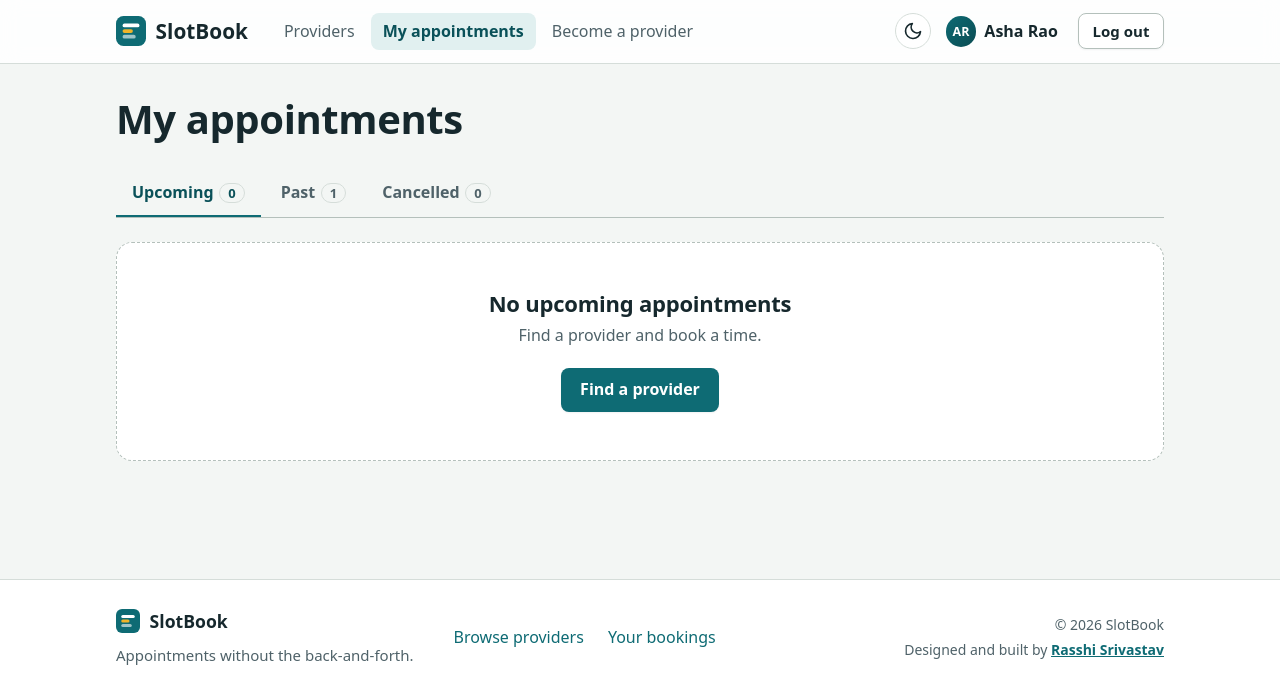
Test case: reviewing a finished appointment › asks for a star rating before sending, then saves rating and comment
Click the tab "Past1" at (313, 194), box [265, 170, 362, 218]
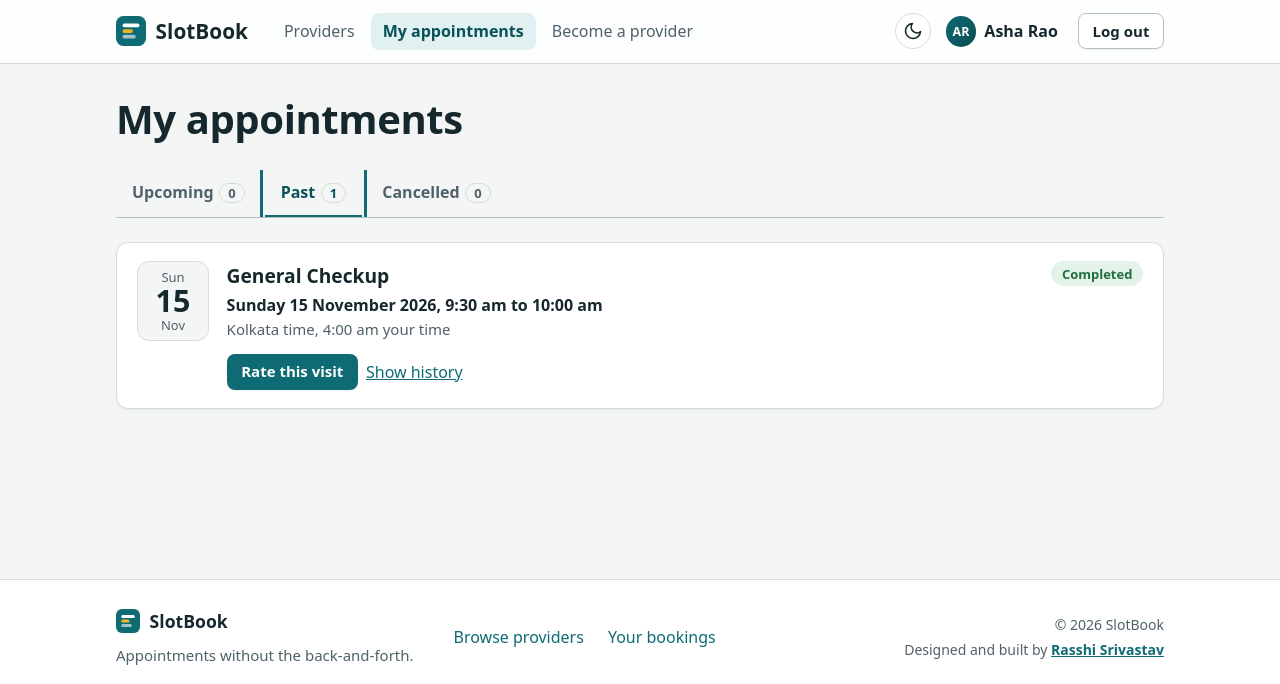
Click the button "Rate this visit" at (292, 372), box [227, 354, 358, 390]
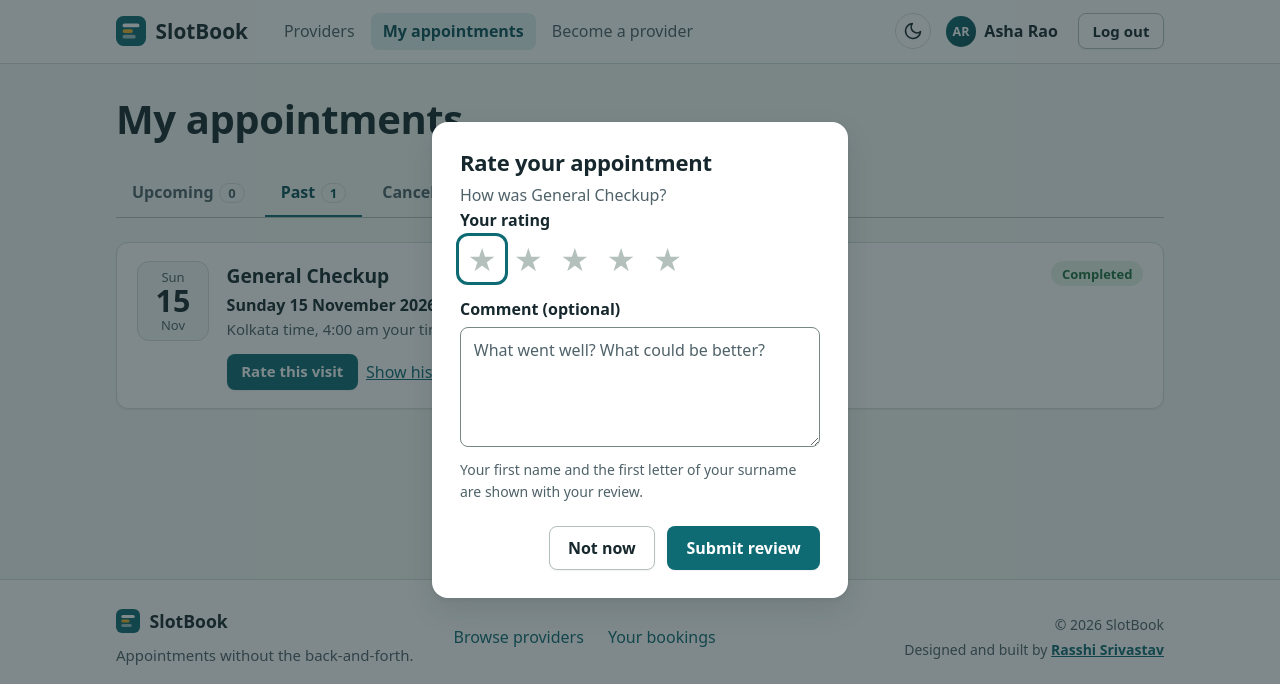
Expected: the text "How was General Checkup?" is shown, [460, 184, 666, 206]
Click the button "Submit review" at (744, 548), box [667, 526, 820, 570]
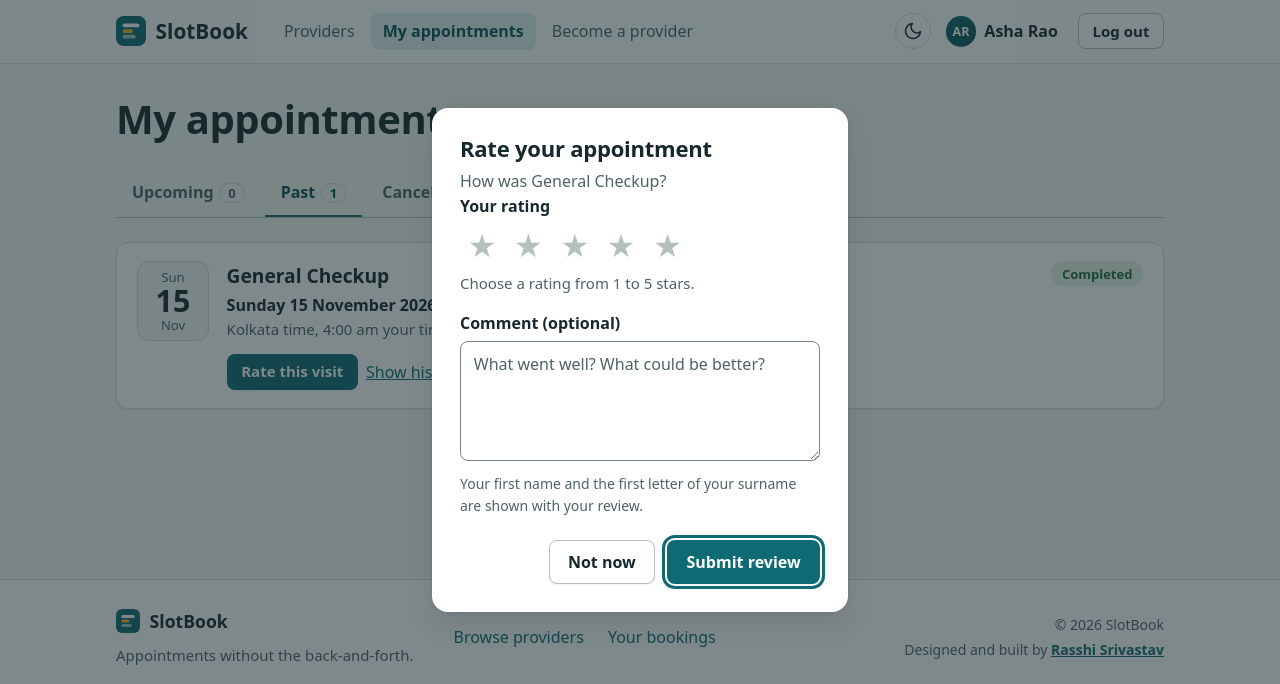
Expected: the text "Choose a rating from 1 to 5 stars." is shown, [460, 273, 695, 293]
Click the radio button named "5 stars, Excellent" at (669, 253), box [653, 223, 685, 282]
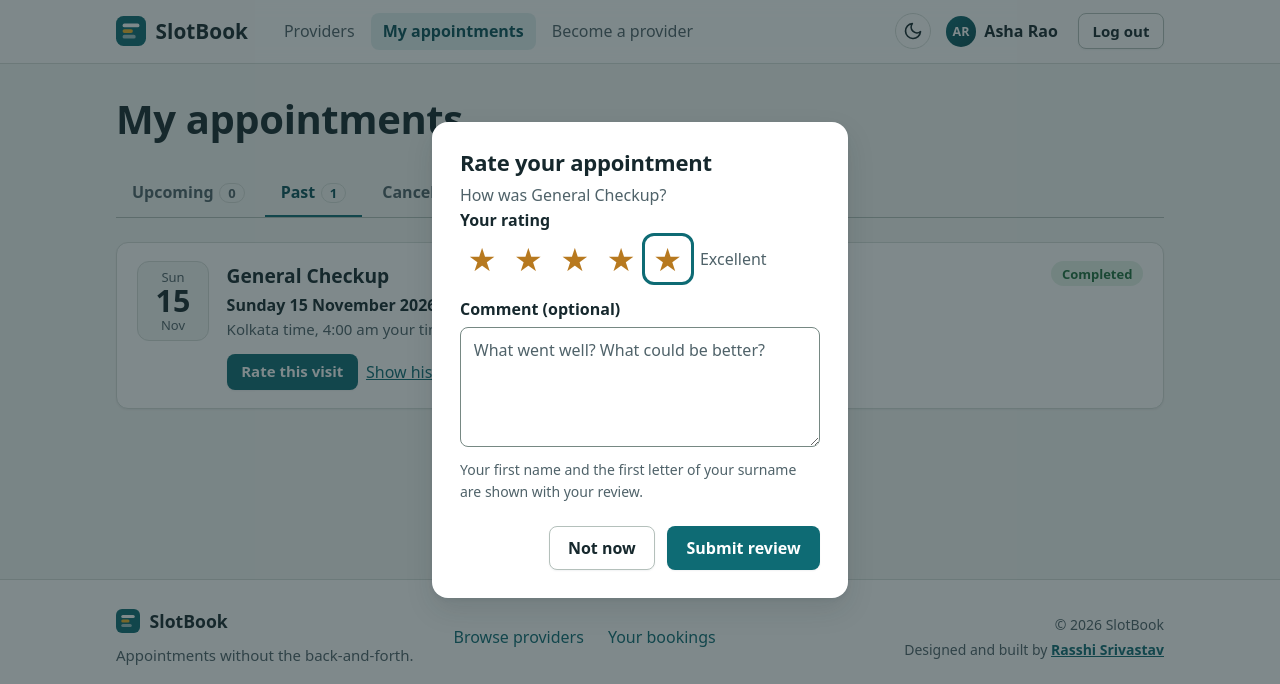
Type "Great" into the text box labelled "Comment (optional)" at (640, 387), box [460, 327, 820, 447]
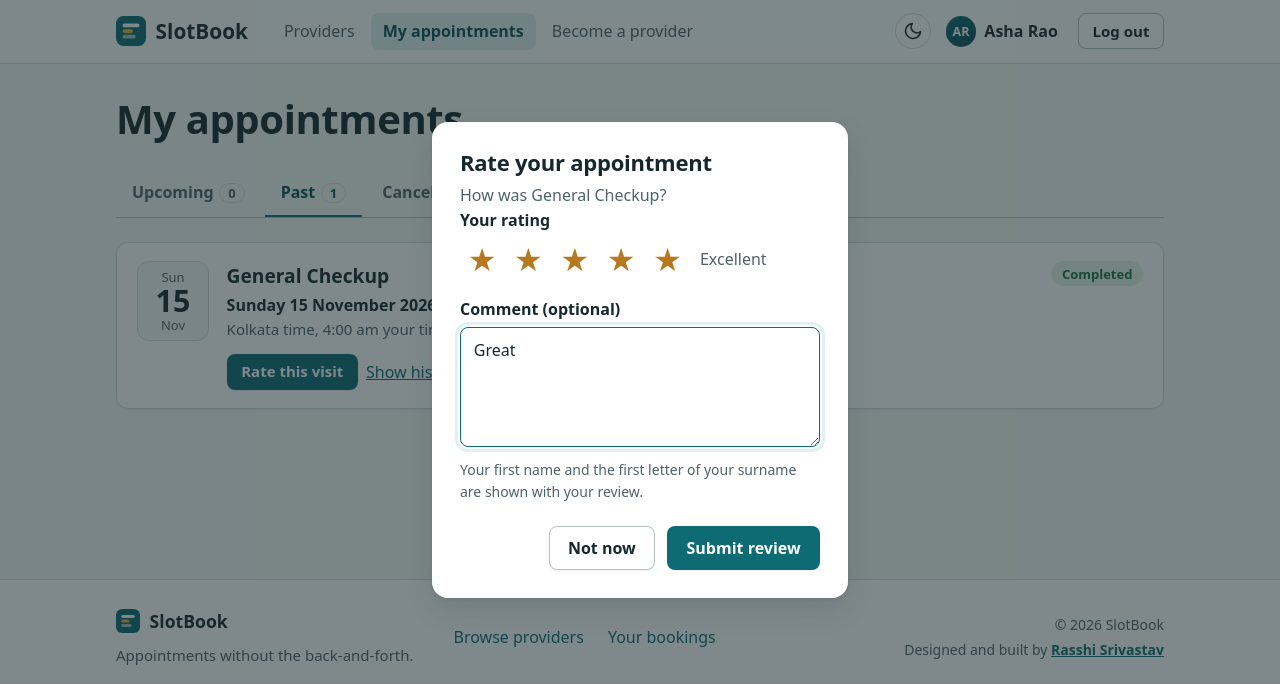
Click the button "Submit review" at (744, 548), box [667, 526, 820, 570]
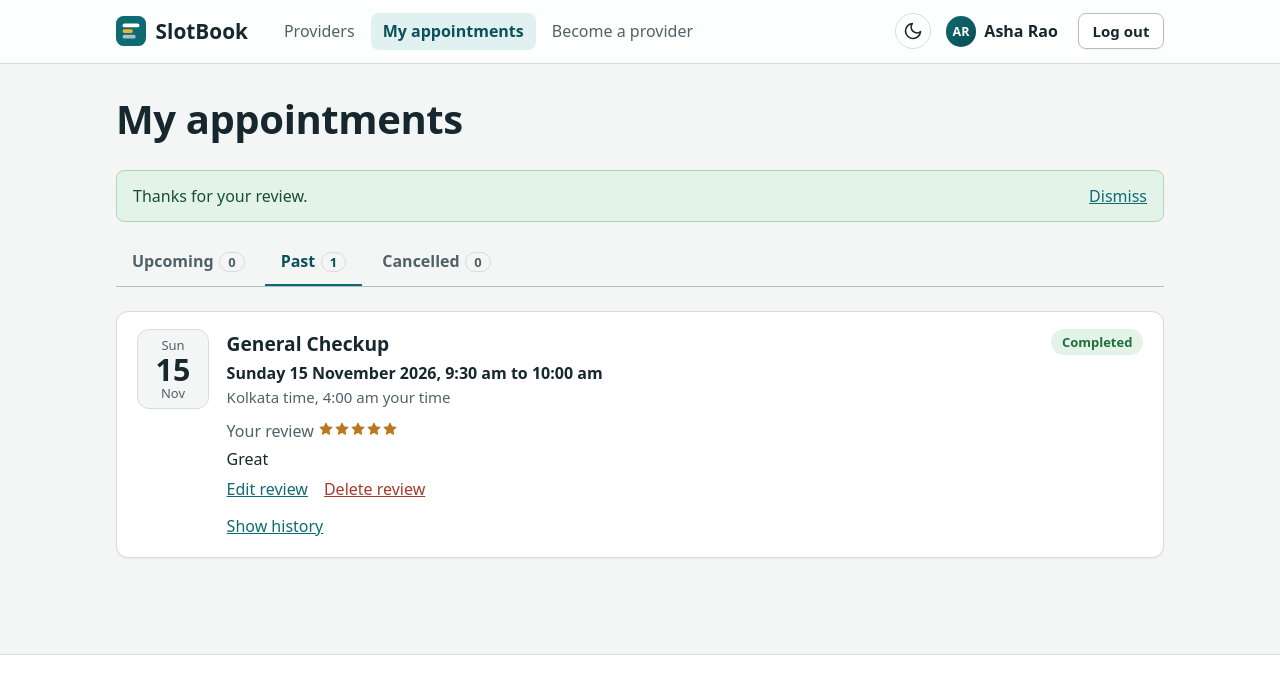
Expected: the text "Thanks for your review." is shown, [133, 184, 308, 208]
Expected: the dialog is gone
Expected: the button "Rate this visit" is gone
